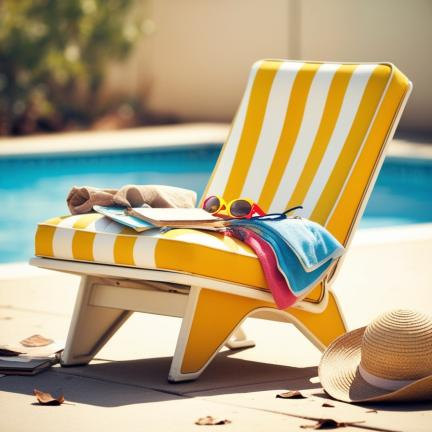occupied chair: (30, 60, 412, 381)
